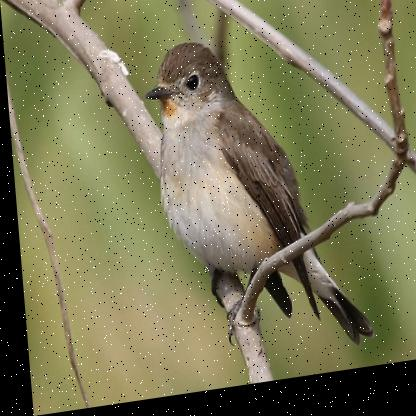Burung: (142, 22, 379, 380)
